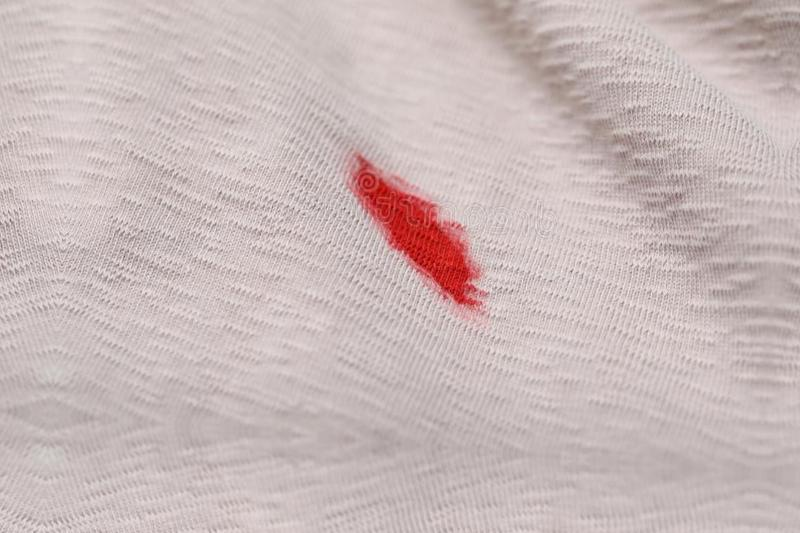stain: (339, 139, 496, 322)
